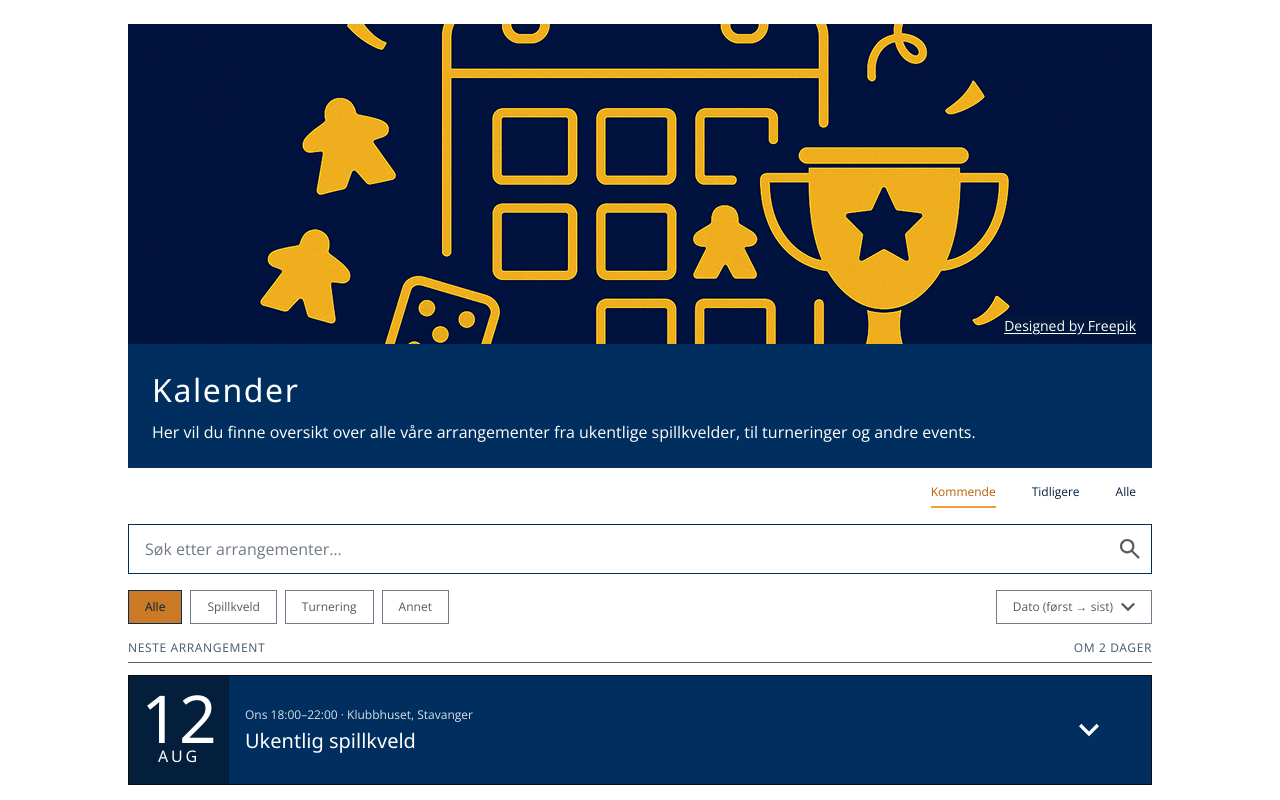
it: CalendarSection › hides the month dividers under a title sort, without dropping any event
Click the button named "Sorter arrangementer": click(1074, 607) [996,590,1152,624]
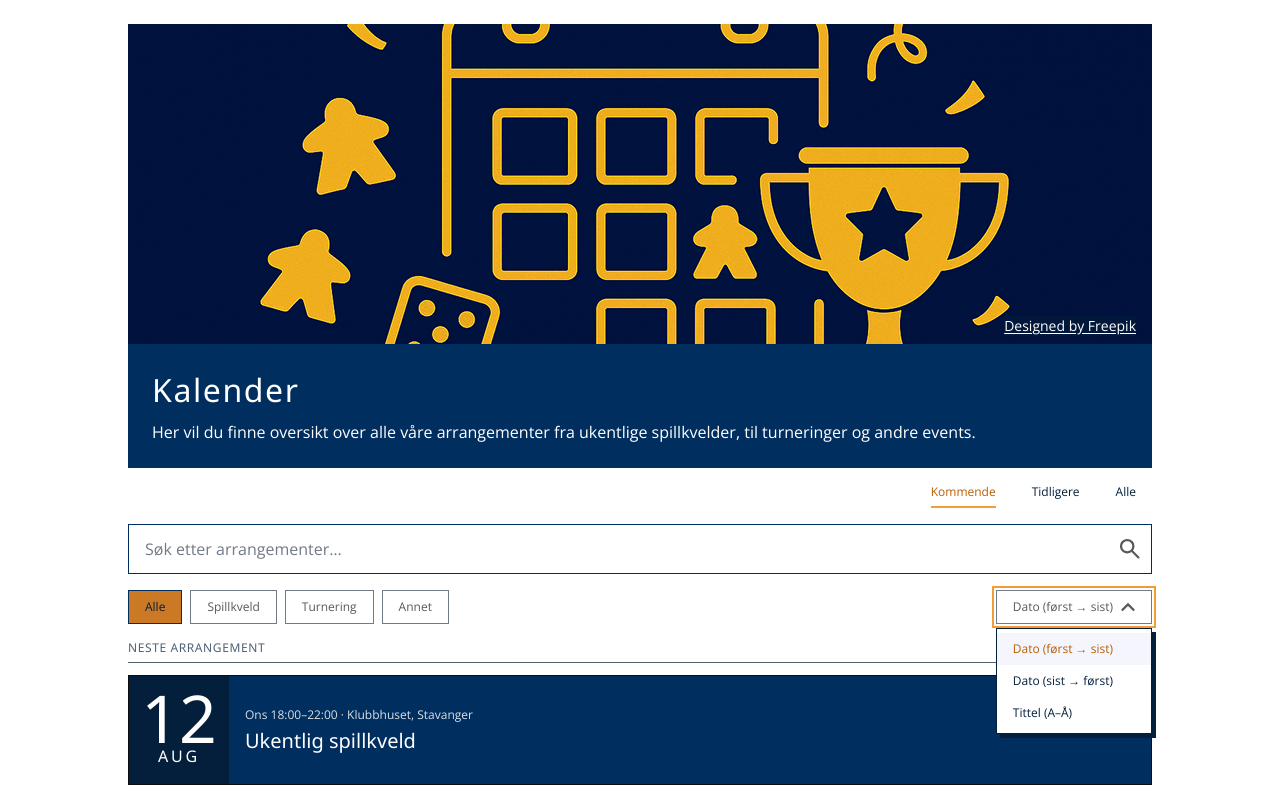
Click the option "Tittel (A–Å)": click(1042, 712) [1013,704,1072,721]
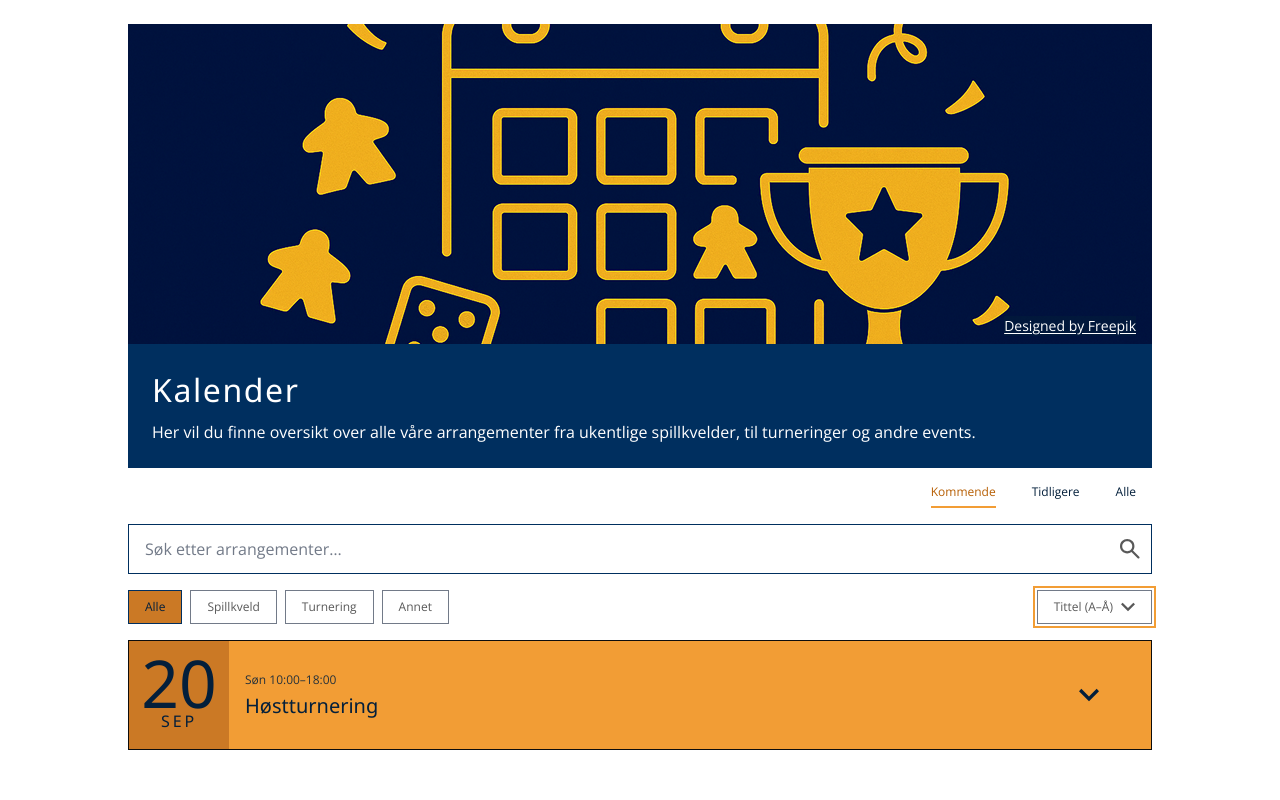
Expected: the heading "Høstturnering" is shown, [245,692,378,718]
